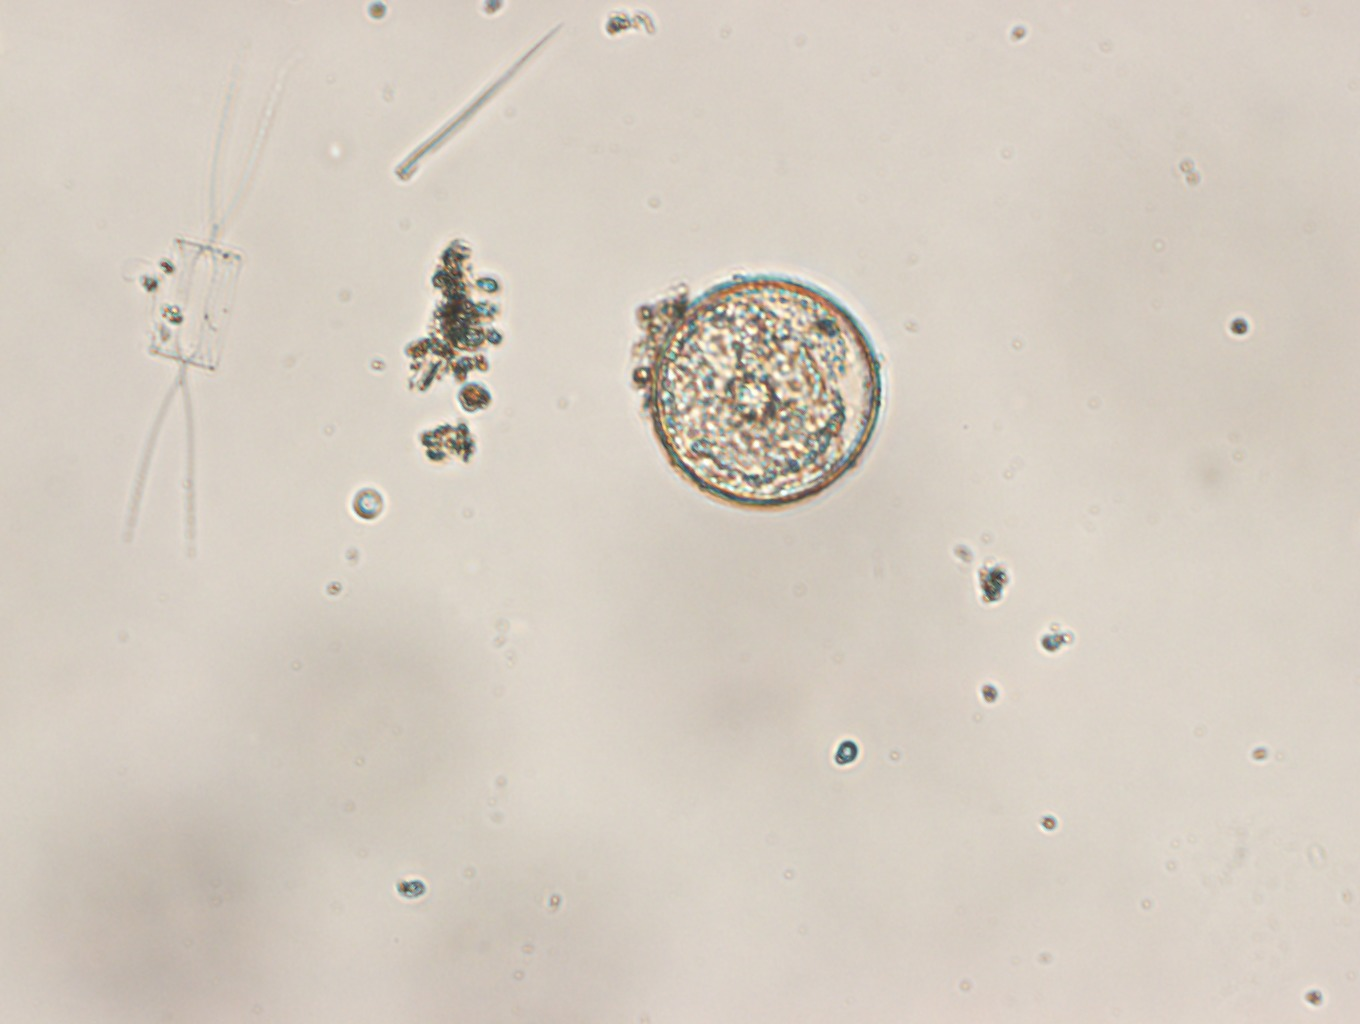chaetoceros: (117, 60, 290, 561)
coscinodiscus: (648, 272, 884, 507)
